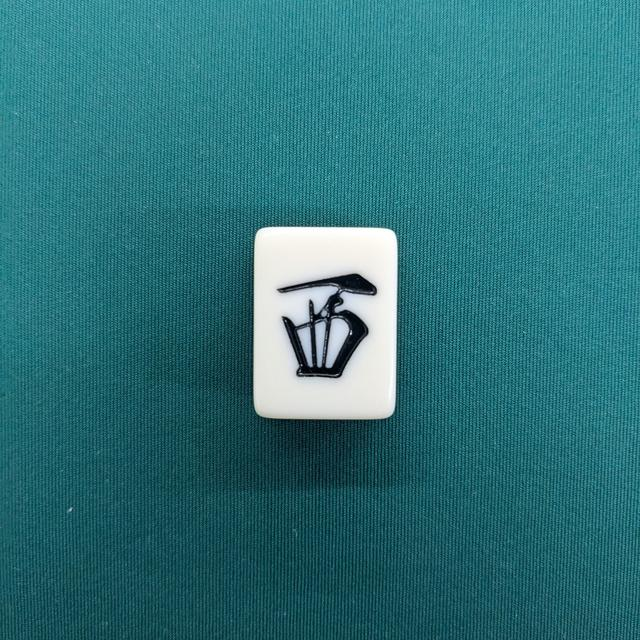nishi: (254, 226, 397, 418)
